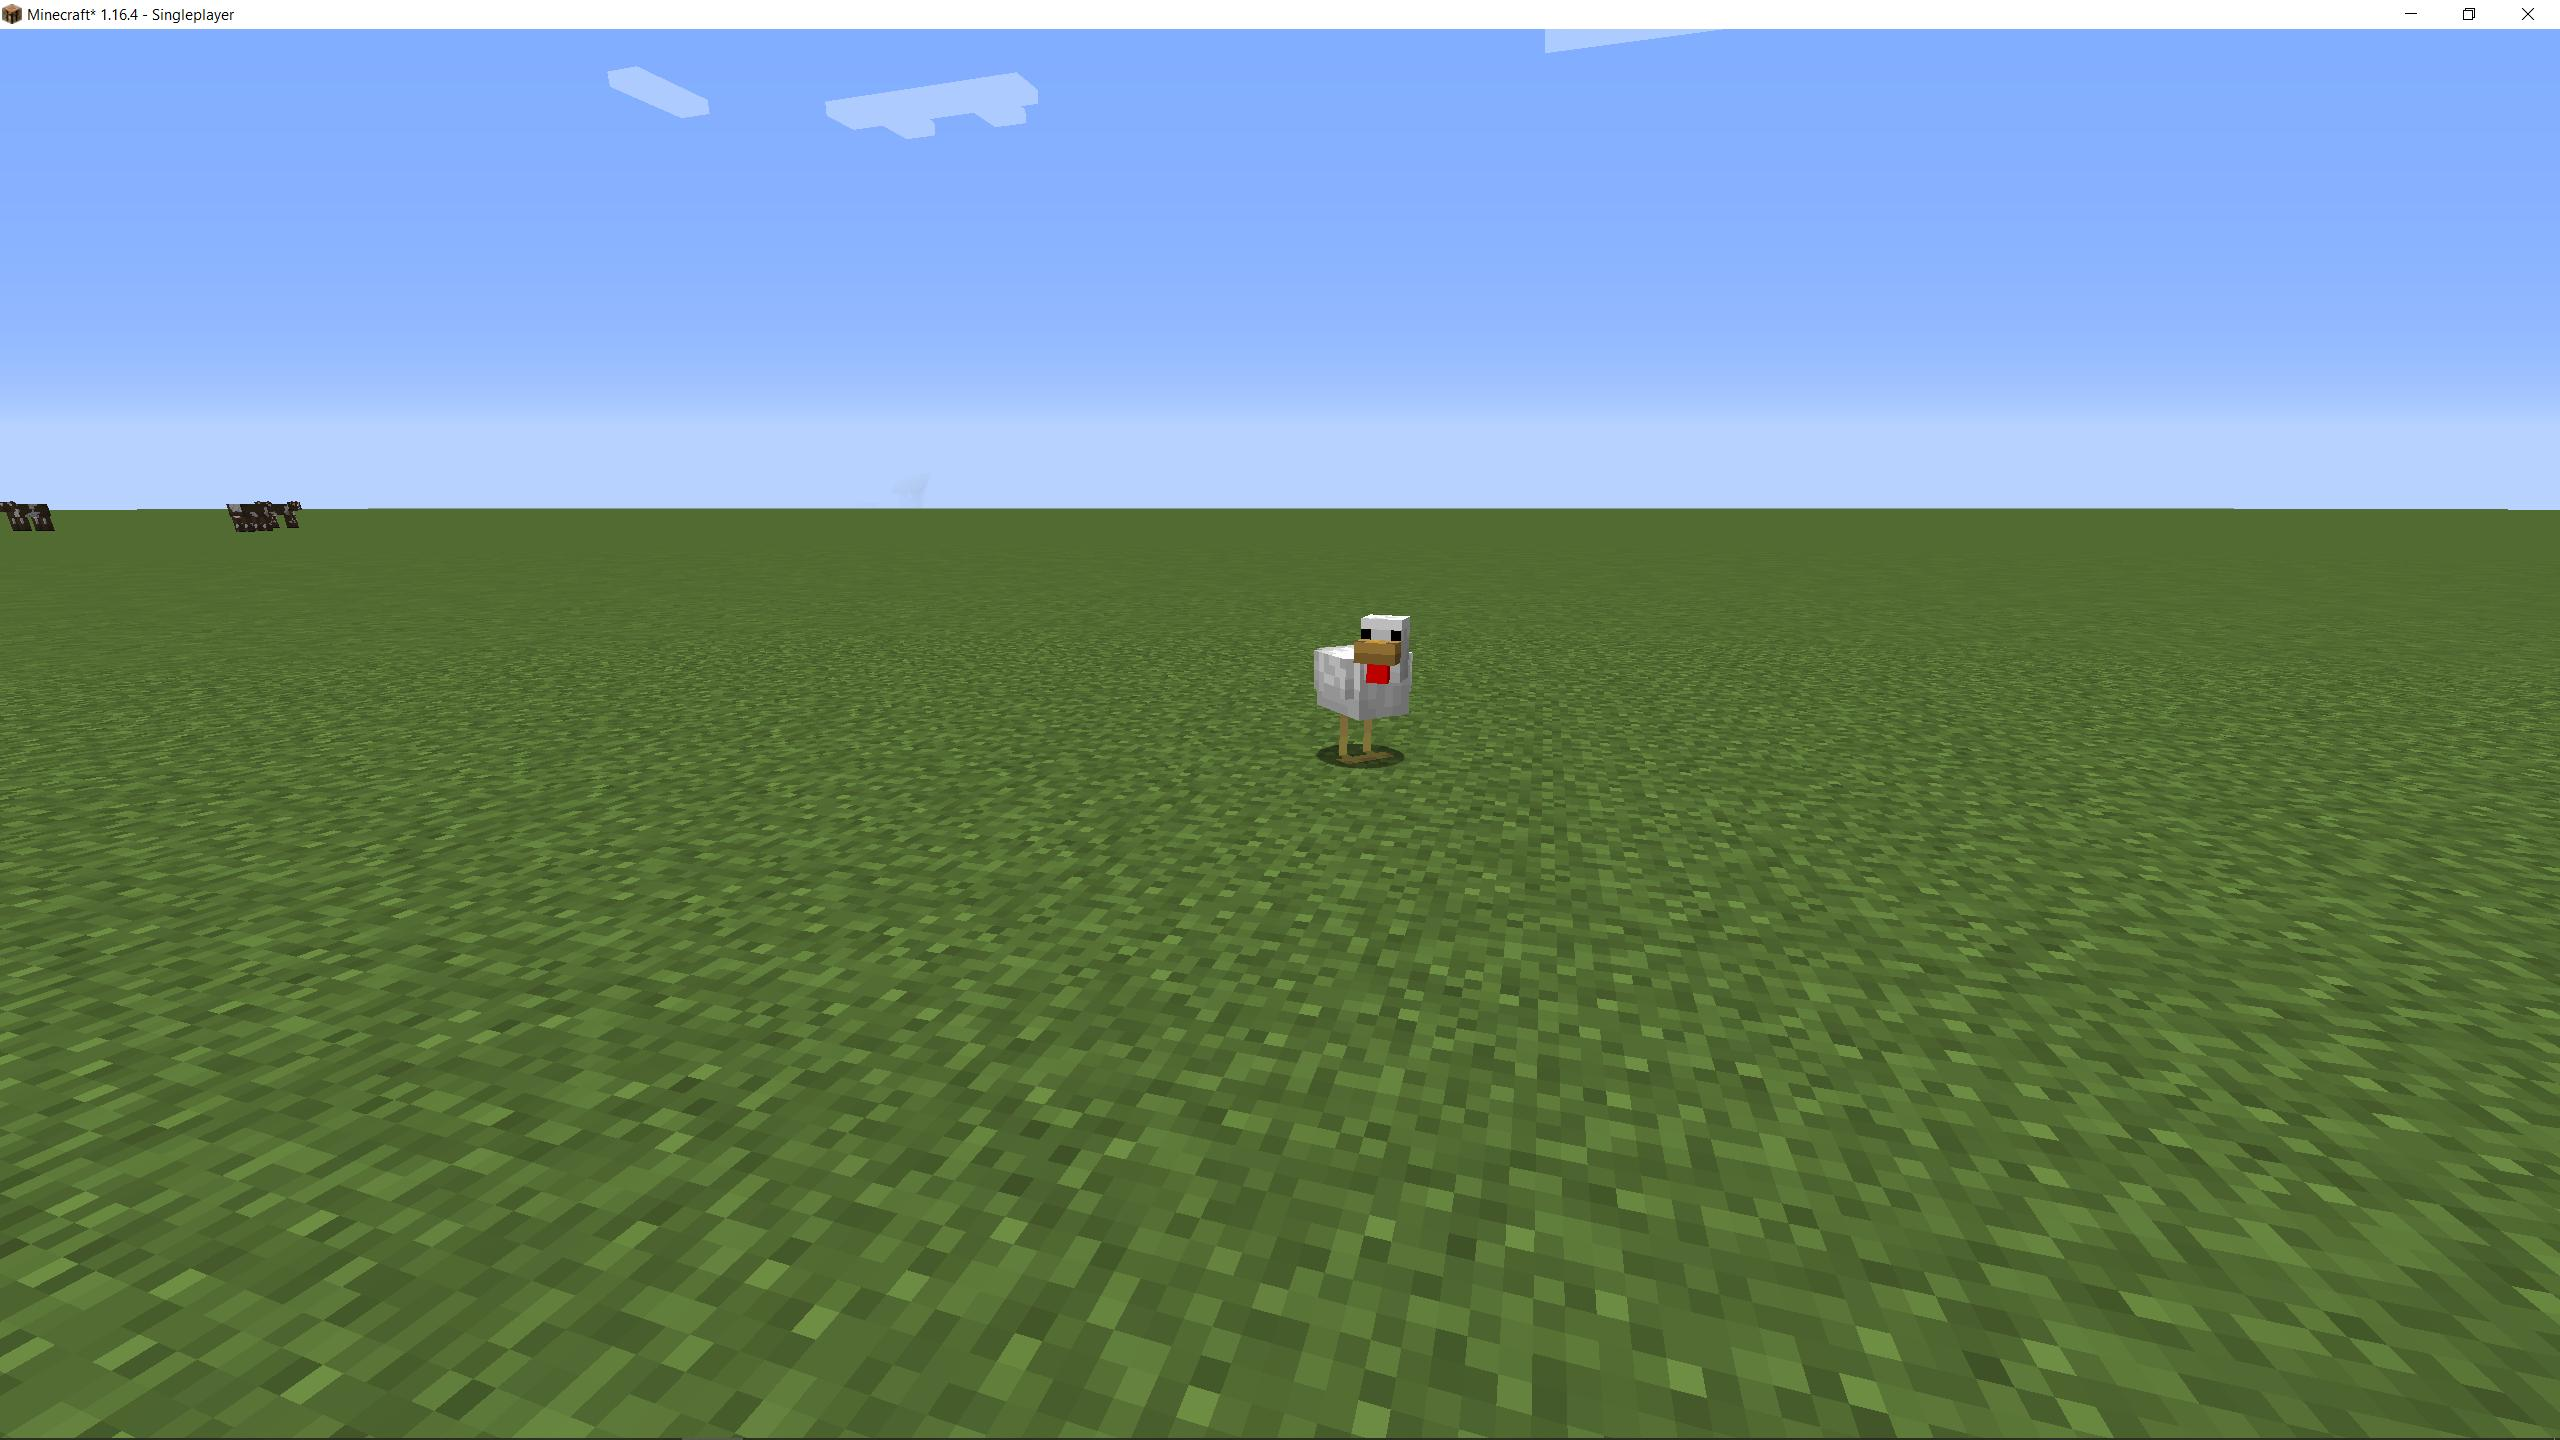chicken: (1312, 614, 1421, 772)
